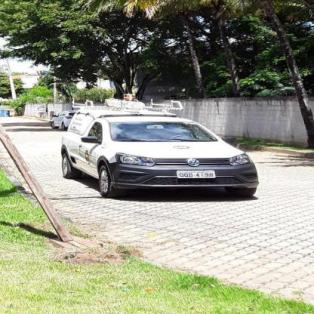Poste: (0, 0, 26, 237)
